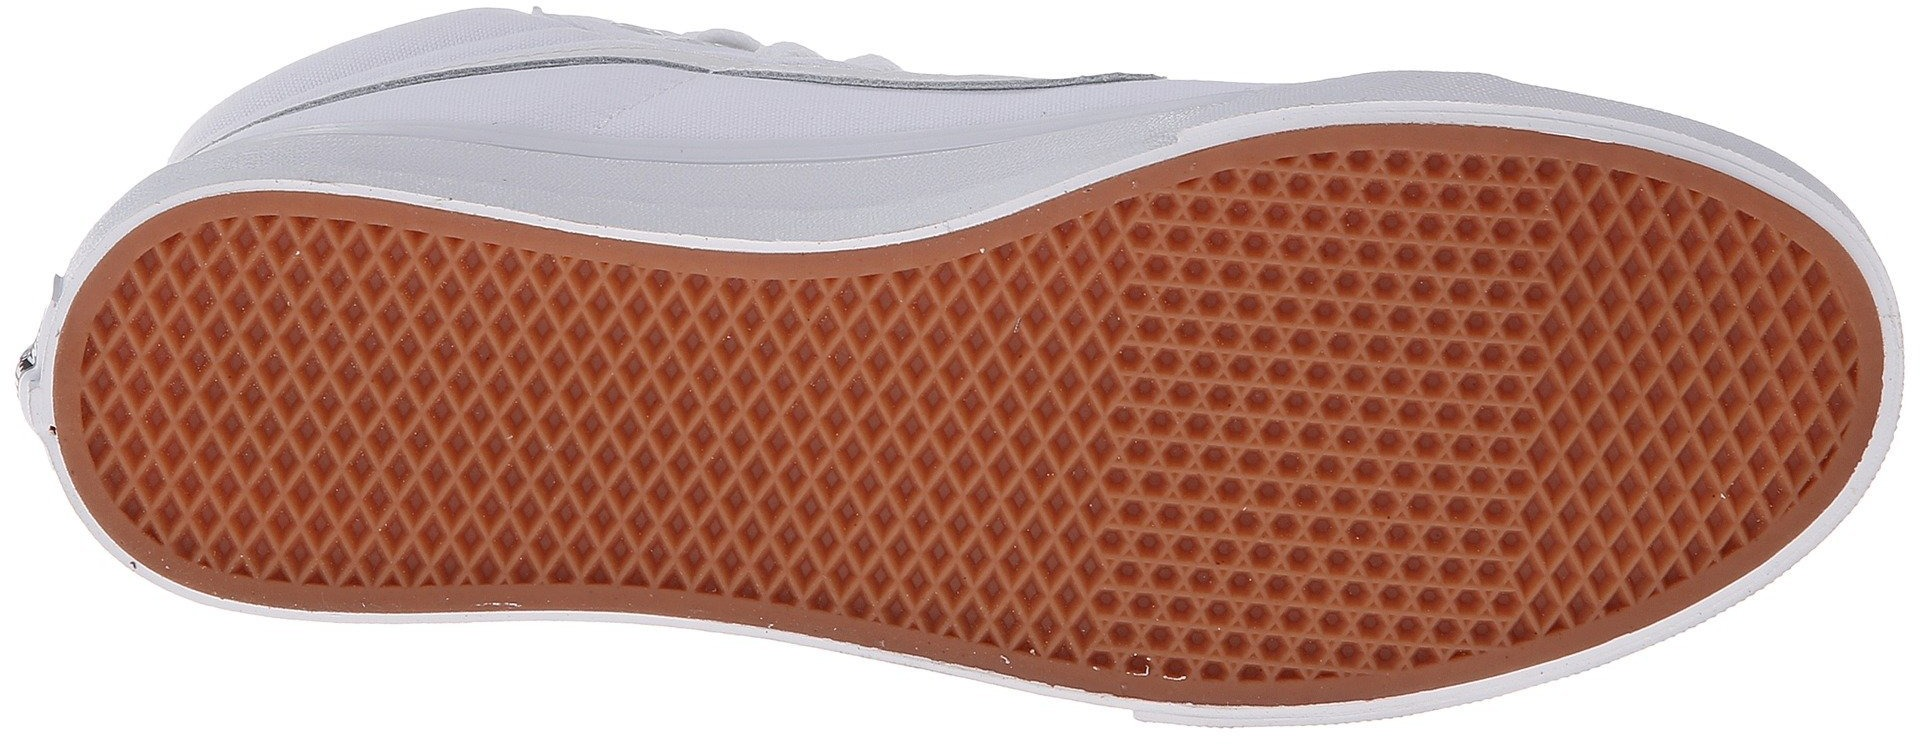polygon: (1142, 430, 1382, 669), (1131, 195, 1369, 418), (1371, 164, 1543, 328), (1384, 345, 1526, 503)
quad: (393, 262, 715, 574), (722, 292, 1000, 578), (116, 283, 384, 541), (1536, 349, 1711, 557), (1558, 177, 1736, 330), (1011, 253, 1122, 371), (1007, 551, 1102, 653)
triangle: (1142, 430, 1382, 669), (1131, 195, 1369, 418), (1371, 164, 1543, 328), (1384, 345, 1526, 503)
